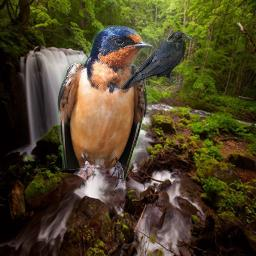Crow: (119, 31, 193, 91)
Swallow: (57, 25, 153, 190)
